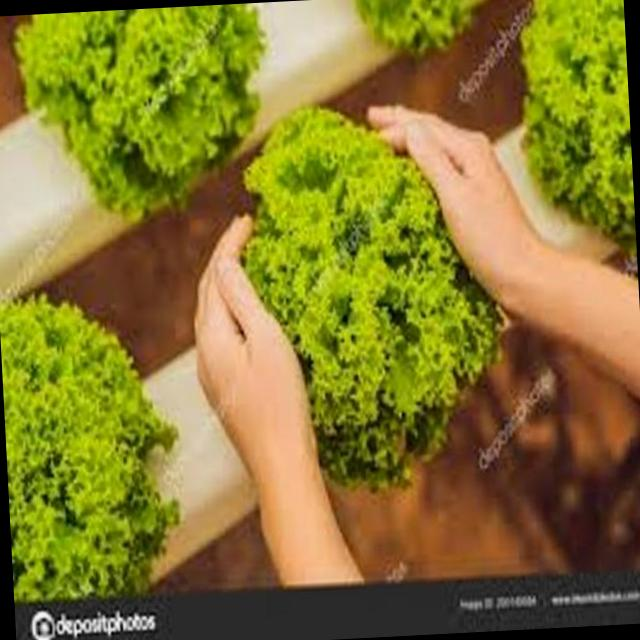Lettuce-Ready-to-Harvest: (245, 107, 500, 488), (0, 297, 177, 600), (17, 6, 263, 215), (522, 0, 637, 254), (360, 0, 479, 51)
